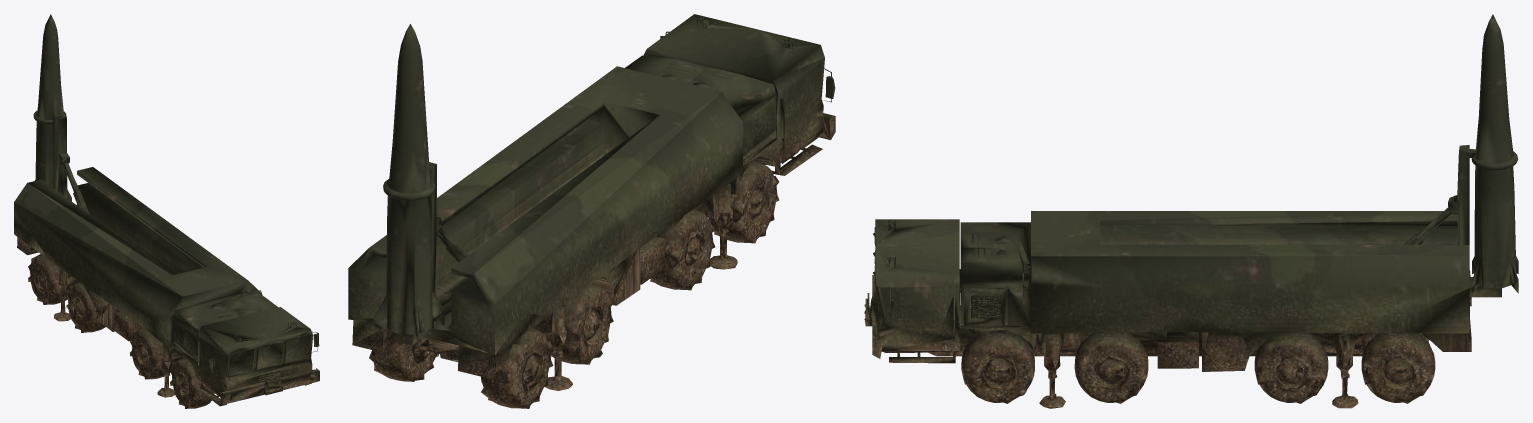
The model's file is mlrs_iskander.glb.
3 renders of one model, left to right at view 1: azimuth 30°, elevation 25°; view 2: azimuth 150°, elevation 25°; view 3: azimuth 270°, elevation 25°, orthographic. The views are drawn at different scales.
Visible parts, largest first — view 1: ISKANDER_complete; view 2: ISKANDER_complete; view 3: ISKANDER_complete.
Part boxes in pixels (x1,y1,x2,y2): ISKANDER_complete: (14,14,319,408); ISKANDER_complete: (348,14,835,408); ISKANDER_complete: (864,14,1518,408).
Size of the model in its own units: 3.26 by 7.29 by 12.
1 material, 1 textured.
